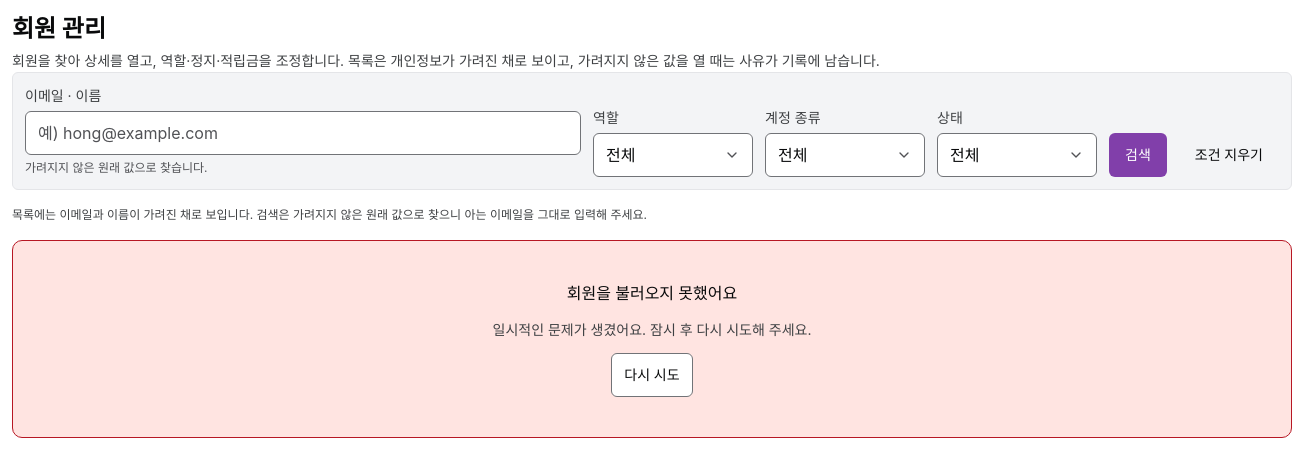
Scenario: 목록 (F1 · F6) › offers a retry when the list could not be read (U6)
Expected: the text "회원을 불러오지 못했어요" is shown, [567,281,737,307]
Click the button "다시 시도" at (652, 375), box [611,353,693,397]
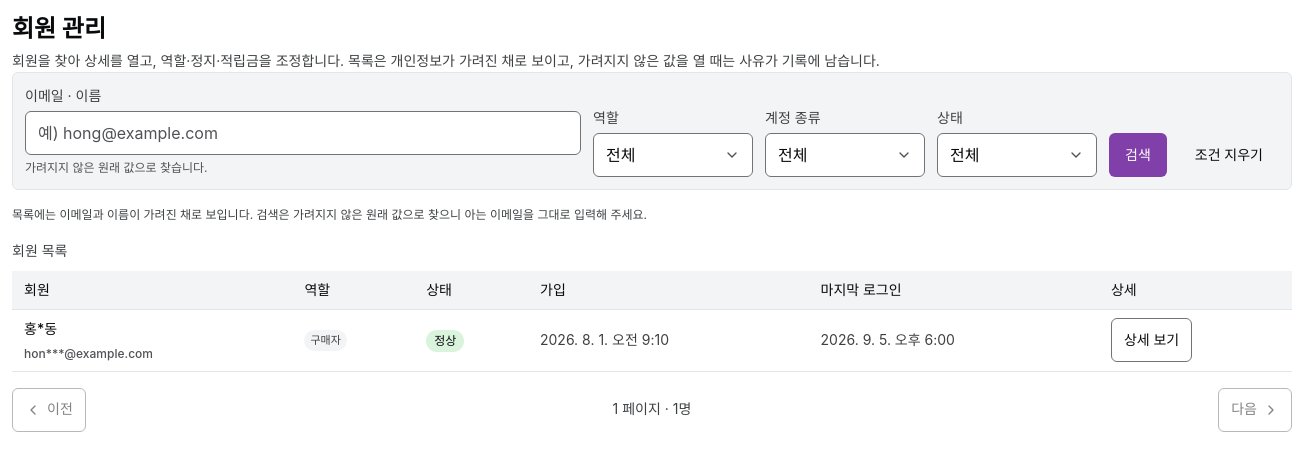
Expected: the table "회원 목록" is shown, [12,240,1292,372]
